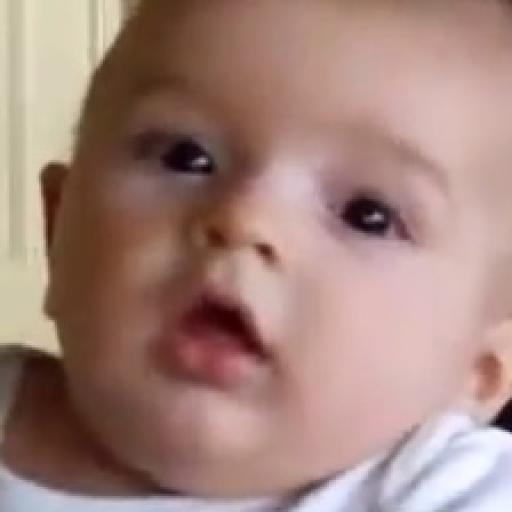Autism: (39, 7, 510, 512)
